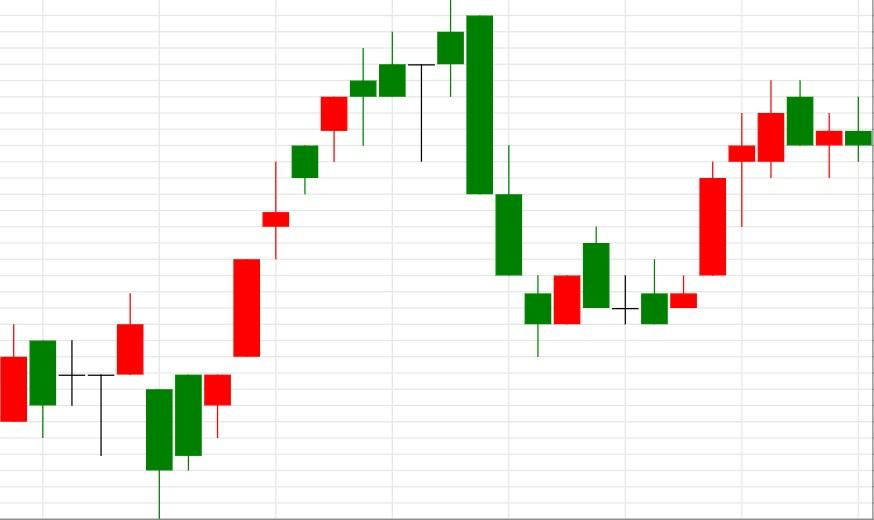three_black_crows_fall: (145, 0, 553, 519)
three_white_soldiers_rise: (582, 111, 757, 325)
